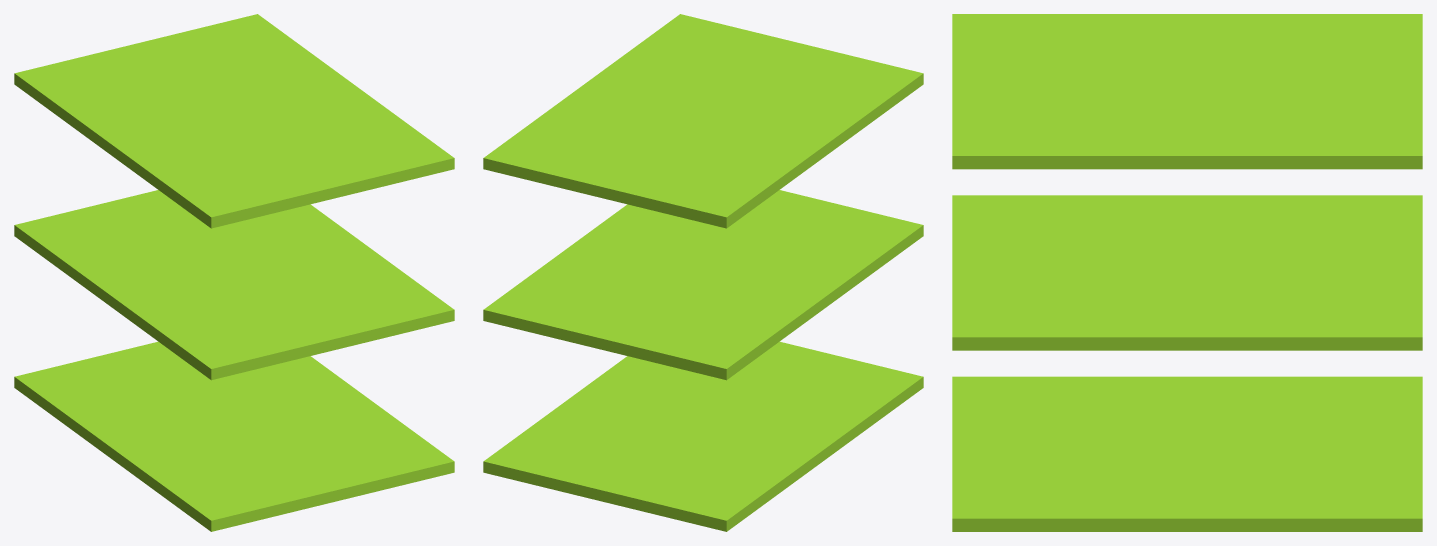
File: FridgeShelves.fbx
3 views of the same model, side by side, from view 1: azimuth 30°, elevation 25°; view 2: azimuth 150°, elevation 25°; view 3: azimuth 270°, elevation 25° (orthographic). The views are drawn at different scales.
Parts seen in each view (by area): view 1: Fridge.Shelves; view 2: Fridge.Shelves; view 3: Fridge.Shelves.
Boxes of the visible parts, box(x1,y1,x2,y2) form: Fridge.Shelves: box(14, 14, 454, 531); Fridge.Shelves: box(483, 14, 923, 531); Fridge.Shelves: box(952, 14, 1422, 531).
Bounding box in the file's own units: 57.97 × 71.63 × 81.24.
